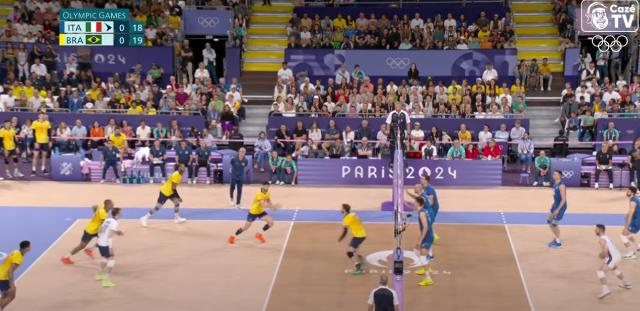Levantador: (337, 204, 367, 272), (420, 174, 436, 200)
Libero: (594, 224, 628, 292), (97, 209, 123, 288)
bola: (232, 102, 238, 110)
